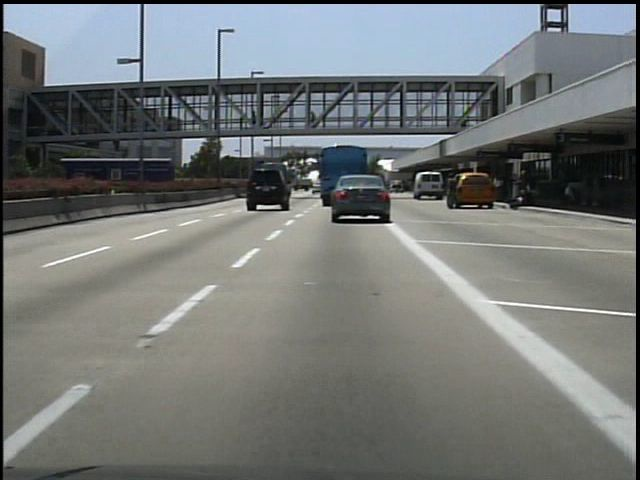person: (444, 175, 463, 216), (245, 107, 261, 131), (306, 109, 320, 136)
